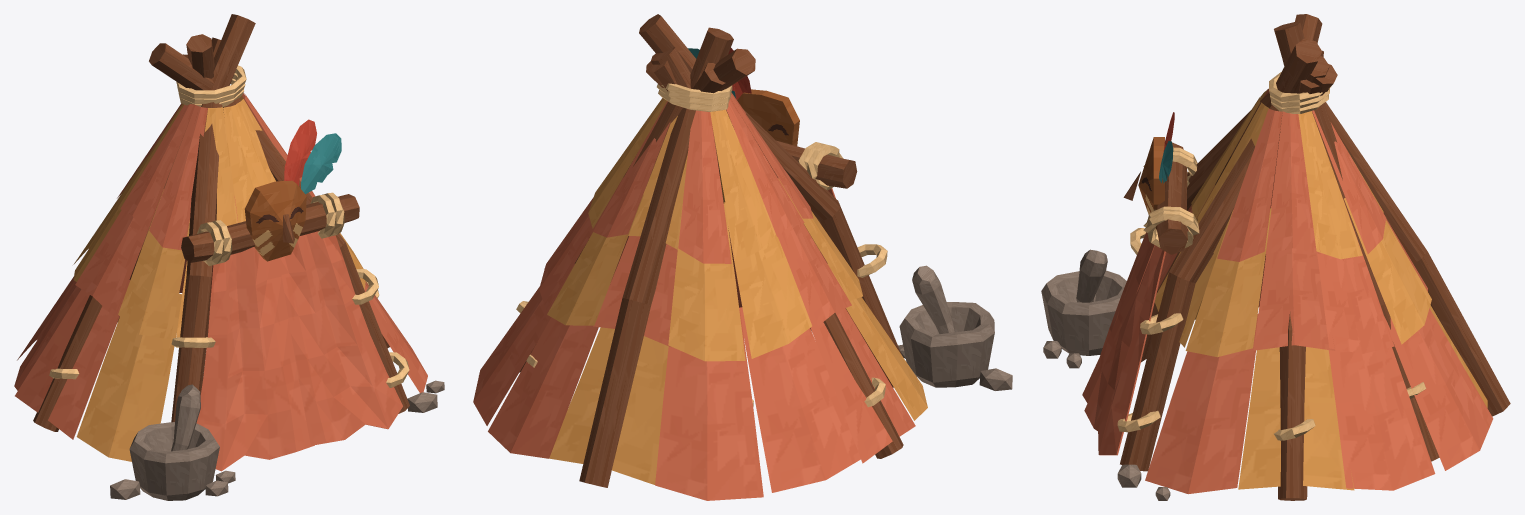
Rendered from Shaman_Hide_Hut.glb.
3 views of the same model, side by side, from view 1: azimuth 30°, elevation 25°; view 2: azimuth 150°, elevation 25°; view 3: azimuth 270°, elevation 25° (orthographic). The views are drawn at different scales.
Parts seen in each view (by area): view 1: Shaman Hide Hut; view 2: Shaman Hide Hut; view 3: Shaman Hide Hut.
Part boxes in pixels (x1=…): Shaman Hide Hut: x1=14, y1=14, x2=444, y2=500; Shaman Hide Hut: x1=473, y1=14, x2=1012, y2=500; Shaman Hide Hut: x1=1041, y1=14, x2=1510, y2=500.
Size of the model in its own units: 5.92 by 5.42 by 5.89.
Materials: 3 (3 with a texture image).
